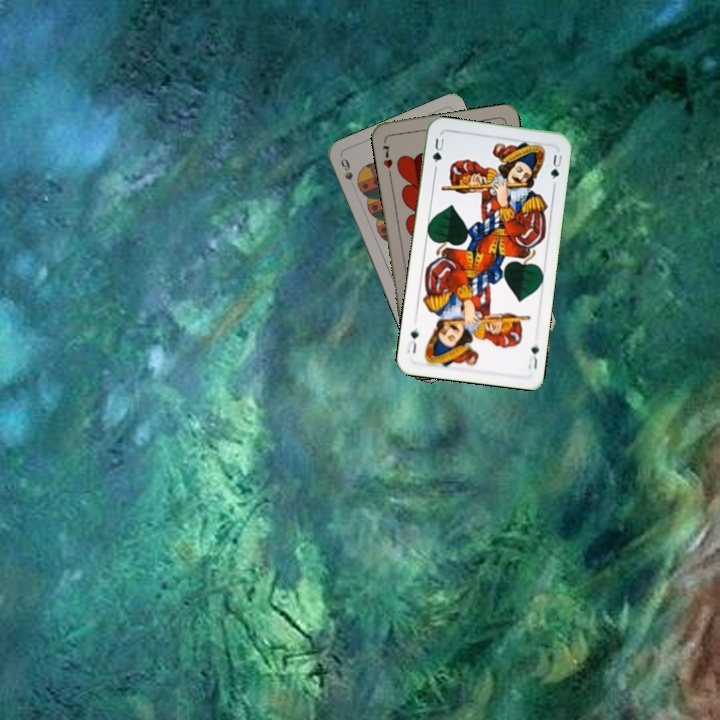GU: (428, 134, 447, 165), (524, 342, 542, 372)
H7: (378, 141, 395, 171)
S9: (336, 154, 357, 190)
